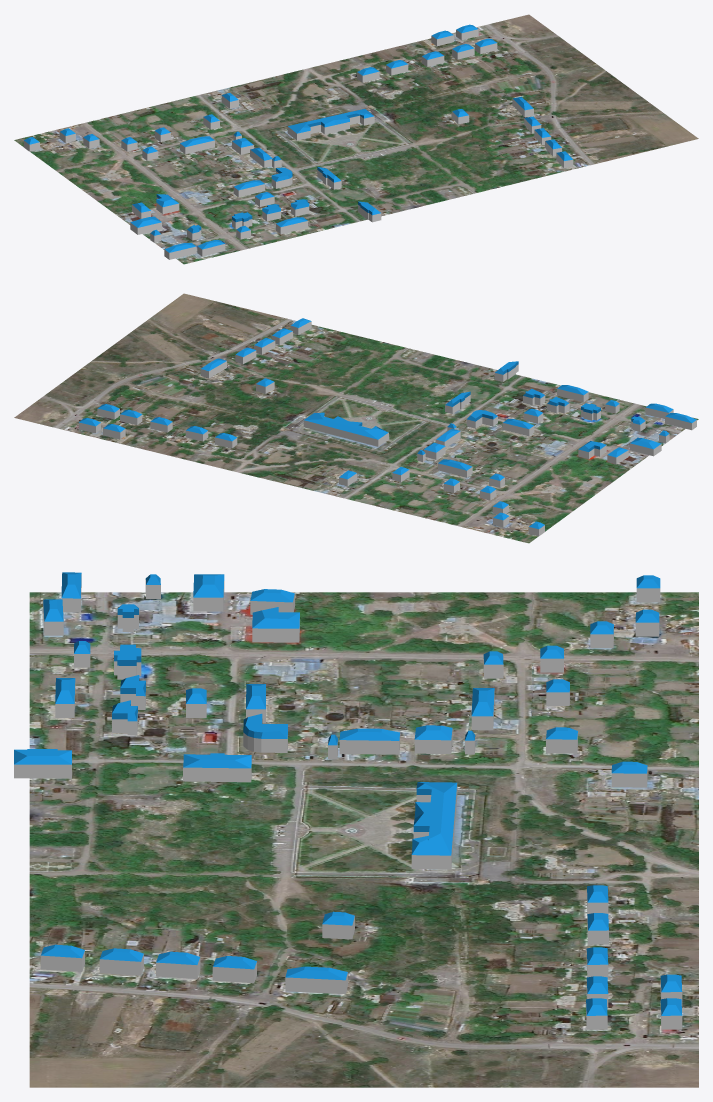
The model's file is KarLag.glb.
3 views of the same model, one above another, from view 1: azimuth 30°, elevation 25°; view 2: azimuth 150°, elevation 25°; view 3: azimuth 270°, elevation 25° (orthographic). The views are drawn at different scales.
Parts seen in each view (by area): view 1: EXPORT_GOOGLE_SAT_WM, Areas:building; view 2: EXPORT_GOOGLE_SAT_WM, Areas:building; view 3: EXPORT_GOOGLE_SAT_WM, Areas:building.
Part boxes in pixels (box(x1,y1,x2,y2)): EXPORT_GOOGLE_SAT_WM: box(14, 14, 698, 264); Areas:building: box(23, 24, 573, 259); EXPORT_GOOGLE_SAT_WM: box(14, 293, 698, 543); Areas:building: box(78, 318, 696, 536); EXPORT_GOOGLE_SAT_WM: box(29, 592, 698, 1087); Areas:building: box(14, 572, 682, 1029).
Bounding box in the file's own units: 1.89e+10 × 3.5e+08 × 1.09e+10.
Materials: 4 (1 with a texture image).
